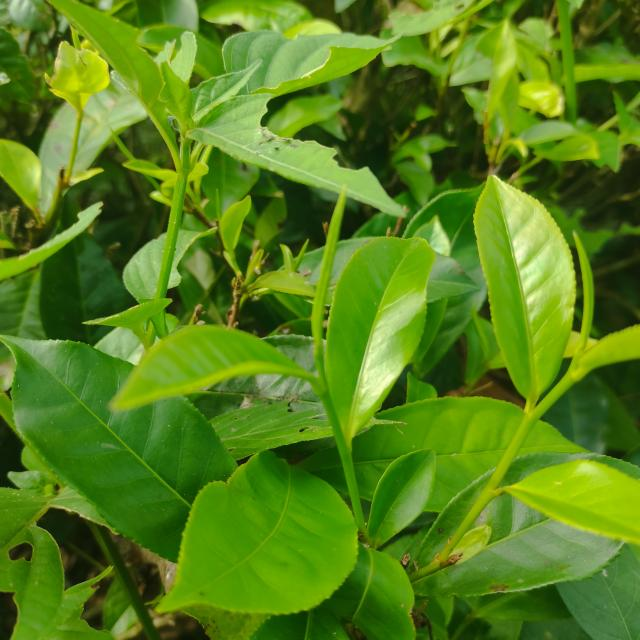unopened_leaf: (292, 170, 358, 392), (565, 221, 599, 385), (285, 230, 314, 280)
